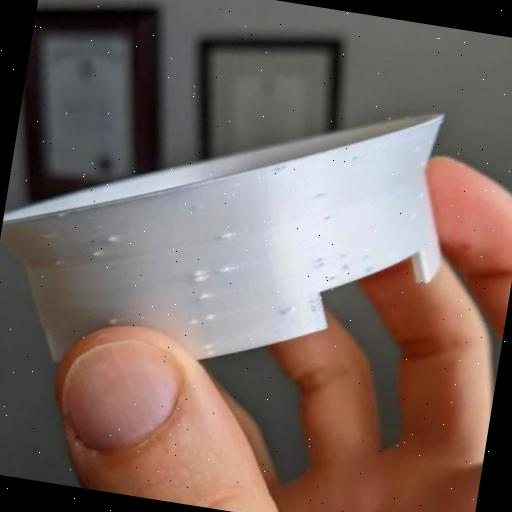blobs: (215, 224, 239, 246), (187, 266, 210, 288), (216, 259, 238, 282), (196, 340, 220, 360), (192, 289, 214, 309), (278, 301, 300, 320), (100, 230, 120, 250), (86, 246, 106, 265), (102, 310, 120, 330), (198, 309, 214, 328), (184, 314, 200, 330), (50, 256, 65, 270)
